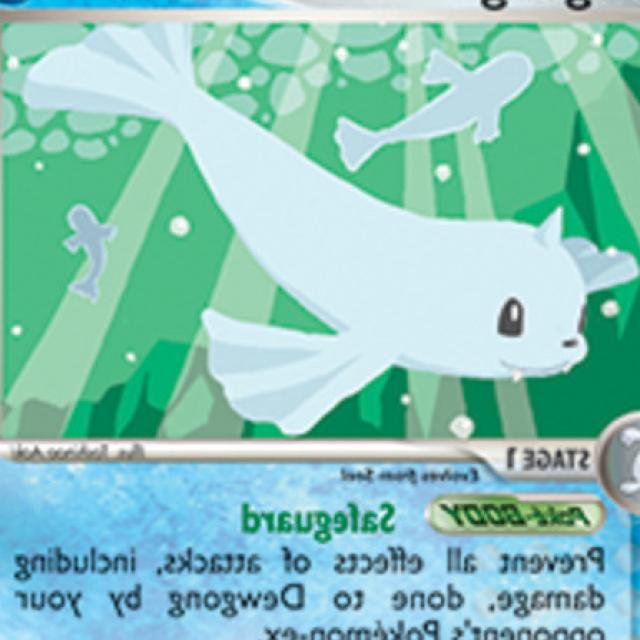Dewgong: (128, 183, 618, 424)
